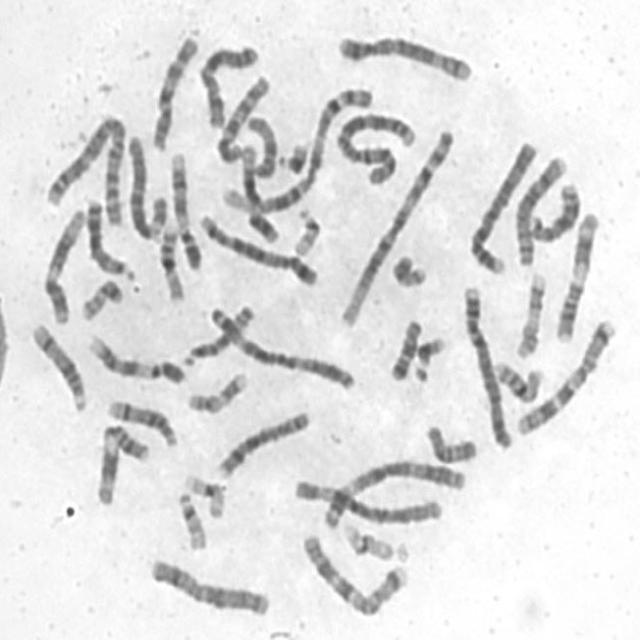A1: (335, 121, 458, 329), (214, 78, 377, 219)
A2: (40, 107, 131, 228), (330, 106, 418, 188)
A3: (203, 298, 357, 393), (314, 451, 469, 530)
B4: (463, 134, 540, 278), (458, 278, 516, 452)
B5: (193, 206, 320, 288), (332, 28, 474, 84)
C10: (146, 29, 200, 152), (211, 68, 272, 166)
C11: (550, 205, 602, 344), (90, 417, 150, 508)
C12: (36, 200, 88, 326), (236, 135, 282, 245)
C6: (288, 472, 444, 527), (121, 128, 169, 242)
C7: (509, 312, 618, 436), (296, 526, 410, 618)
C8: (210, 404, 313, 481), (508, 149, 570, 267)
C9: (81, 328, 188, 387), (164, 144, 204, 272)
D13: (82, 192, 136, 282), (521, 175, 582, 246)
D14: (26, 316, 88, 414), (100, 391, 180, 449)
D15: (178, 297, 257, 368), (242, 109, 279, 181)
E16: (153, 215, 187, 304), (488, 354, 546, 406)
E17: (509, 265, 548, 360), (181, 365, 250, 415)
E18: (420, 417, 480, 465), (385, 312, 424, 383)
F19: (337, 514, 398, 563), (178, 468, 226, 520)
F20: (74, 270, 124, 322), (386, 248, 429, 290)
G21: (408, 329, 448, 385), (275, 135, 311, 176)
G22: (172, 483, 208, 552), (289, 200, 324, 258)
X: (142, 550, 273, 618), (193, 37, 261, 130)
